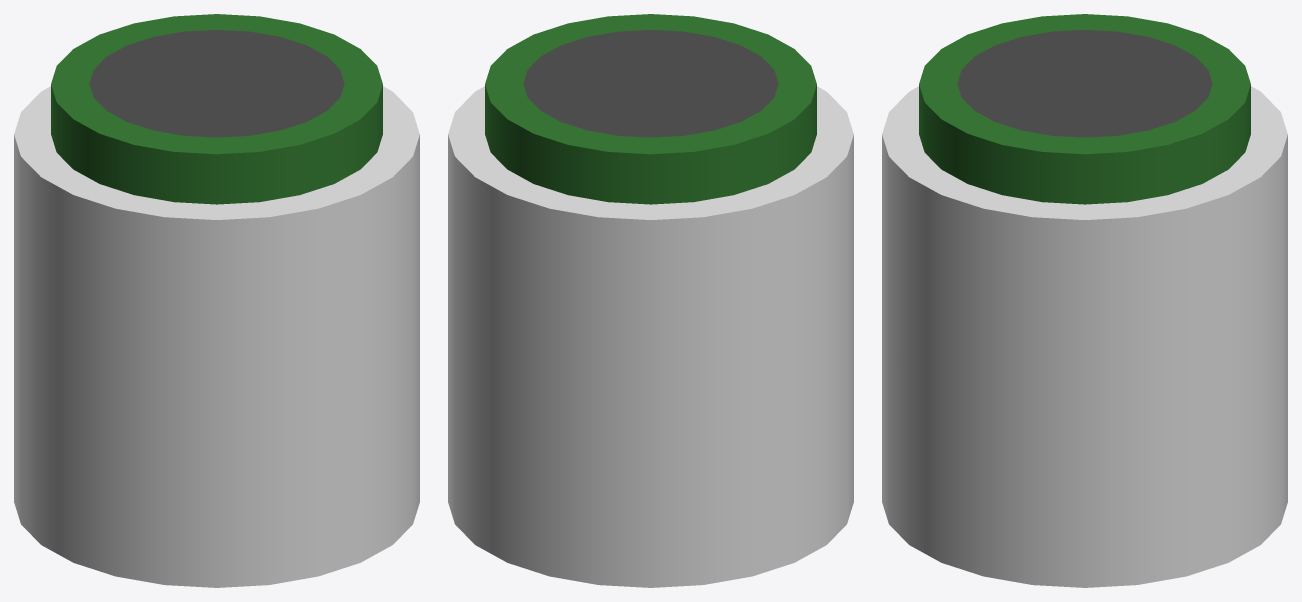
The model's file is Button C.fbx.
3 views of the same model, side by side, from view 1: azimuth 30°, elevation 25°; view 2: azimuth 150°, elevation 25°; view 3: azimuth 270°, elevation 25° (orthographic).
Parts seen in each view (by area): view 1: Button C.001, Button C; view 2: Button C.001, Button C; view 3: Button C.001, Button C.
Boxes of the visible parts, bbox=[...] form: Button C.001: bbox=[14, 86, 419, 587]; Button C: bbox=[51, 14, 382, 204]; Button C.001: bbox=[448, 86, 853, 587]; Button C: bbox=[485, 14, 816, 204]; Button C.001: bbox=[882, 86, 1287, 587]; Button C: bbox=[919, 14, 1250, 204].
Bounding box in the file's own units: 132 × 150 × 132.
